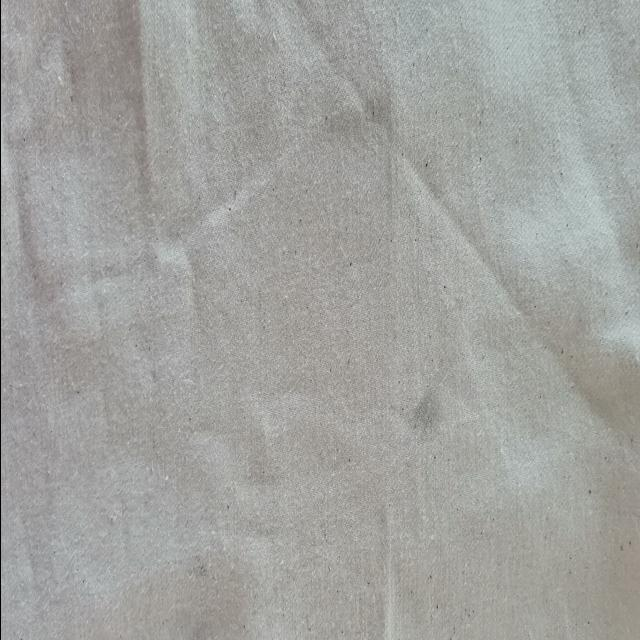taaaches: (306, 78, 396, 174), (392, 368, 454, 468)
